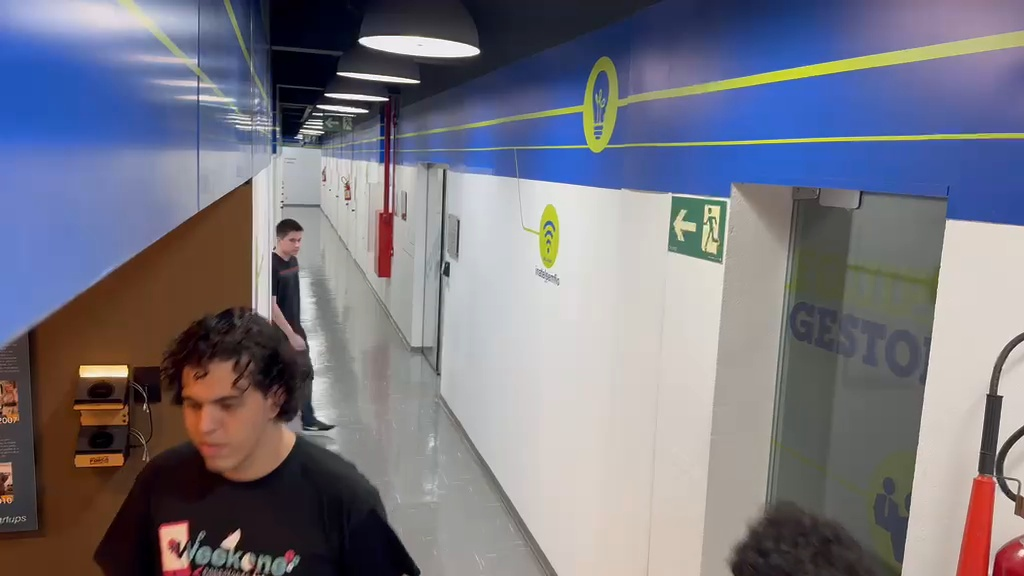person: (91, 305, 420, 573), (271, 215, 328, 430), (728, 502, 894, 574)
